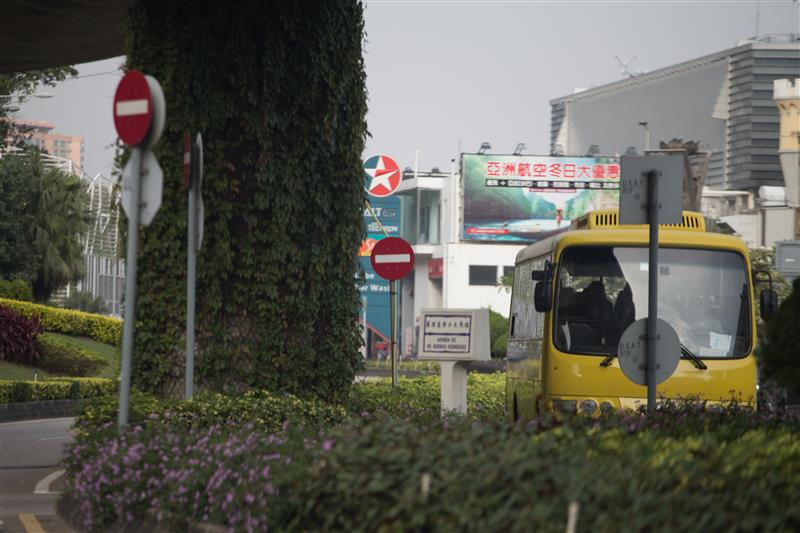noEntry: (113, 70, 152, 146), (368, 236, 417, 281)
